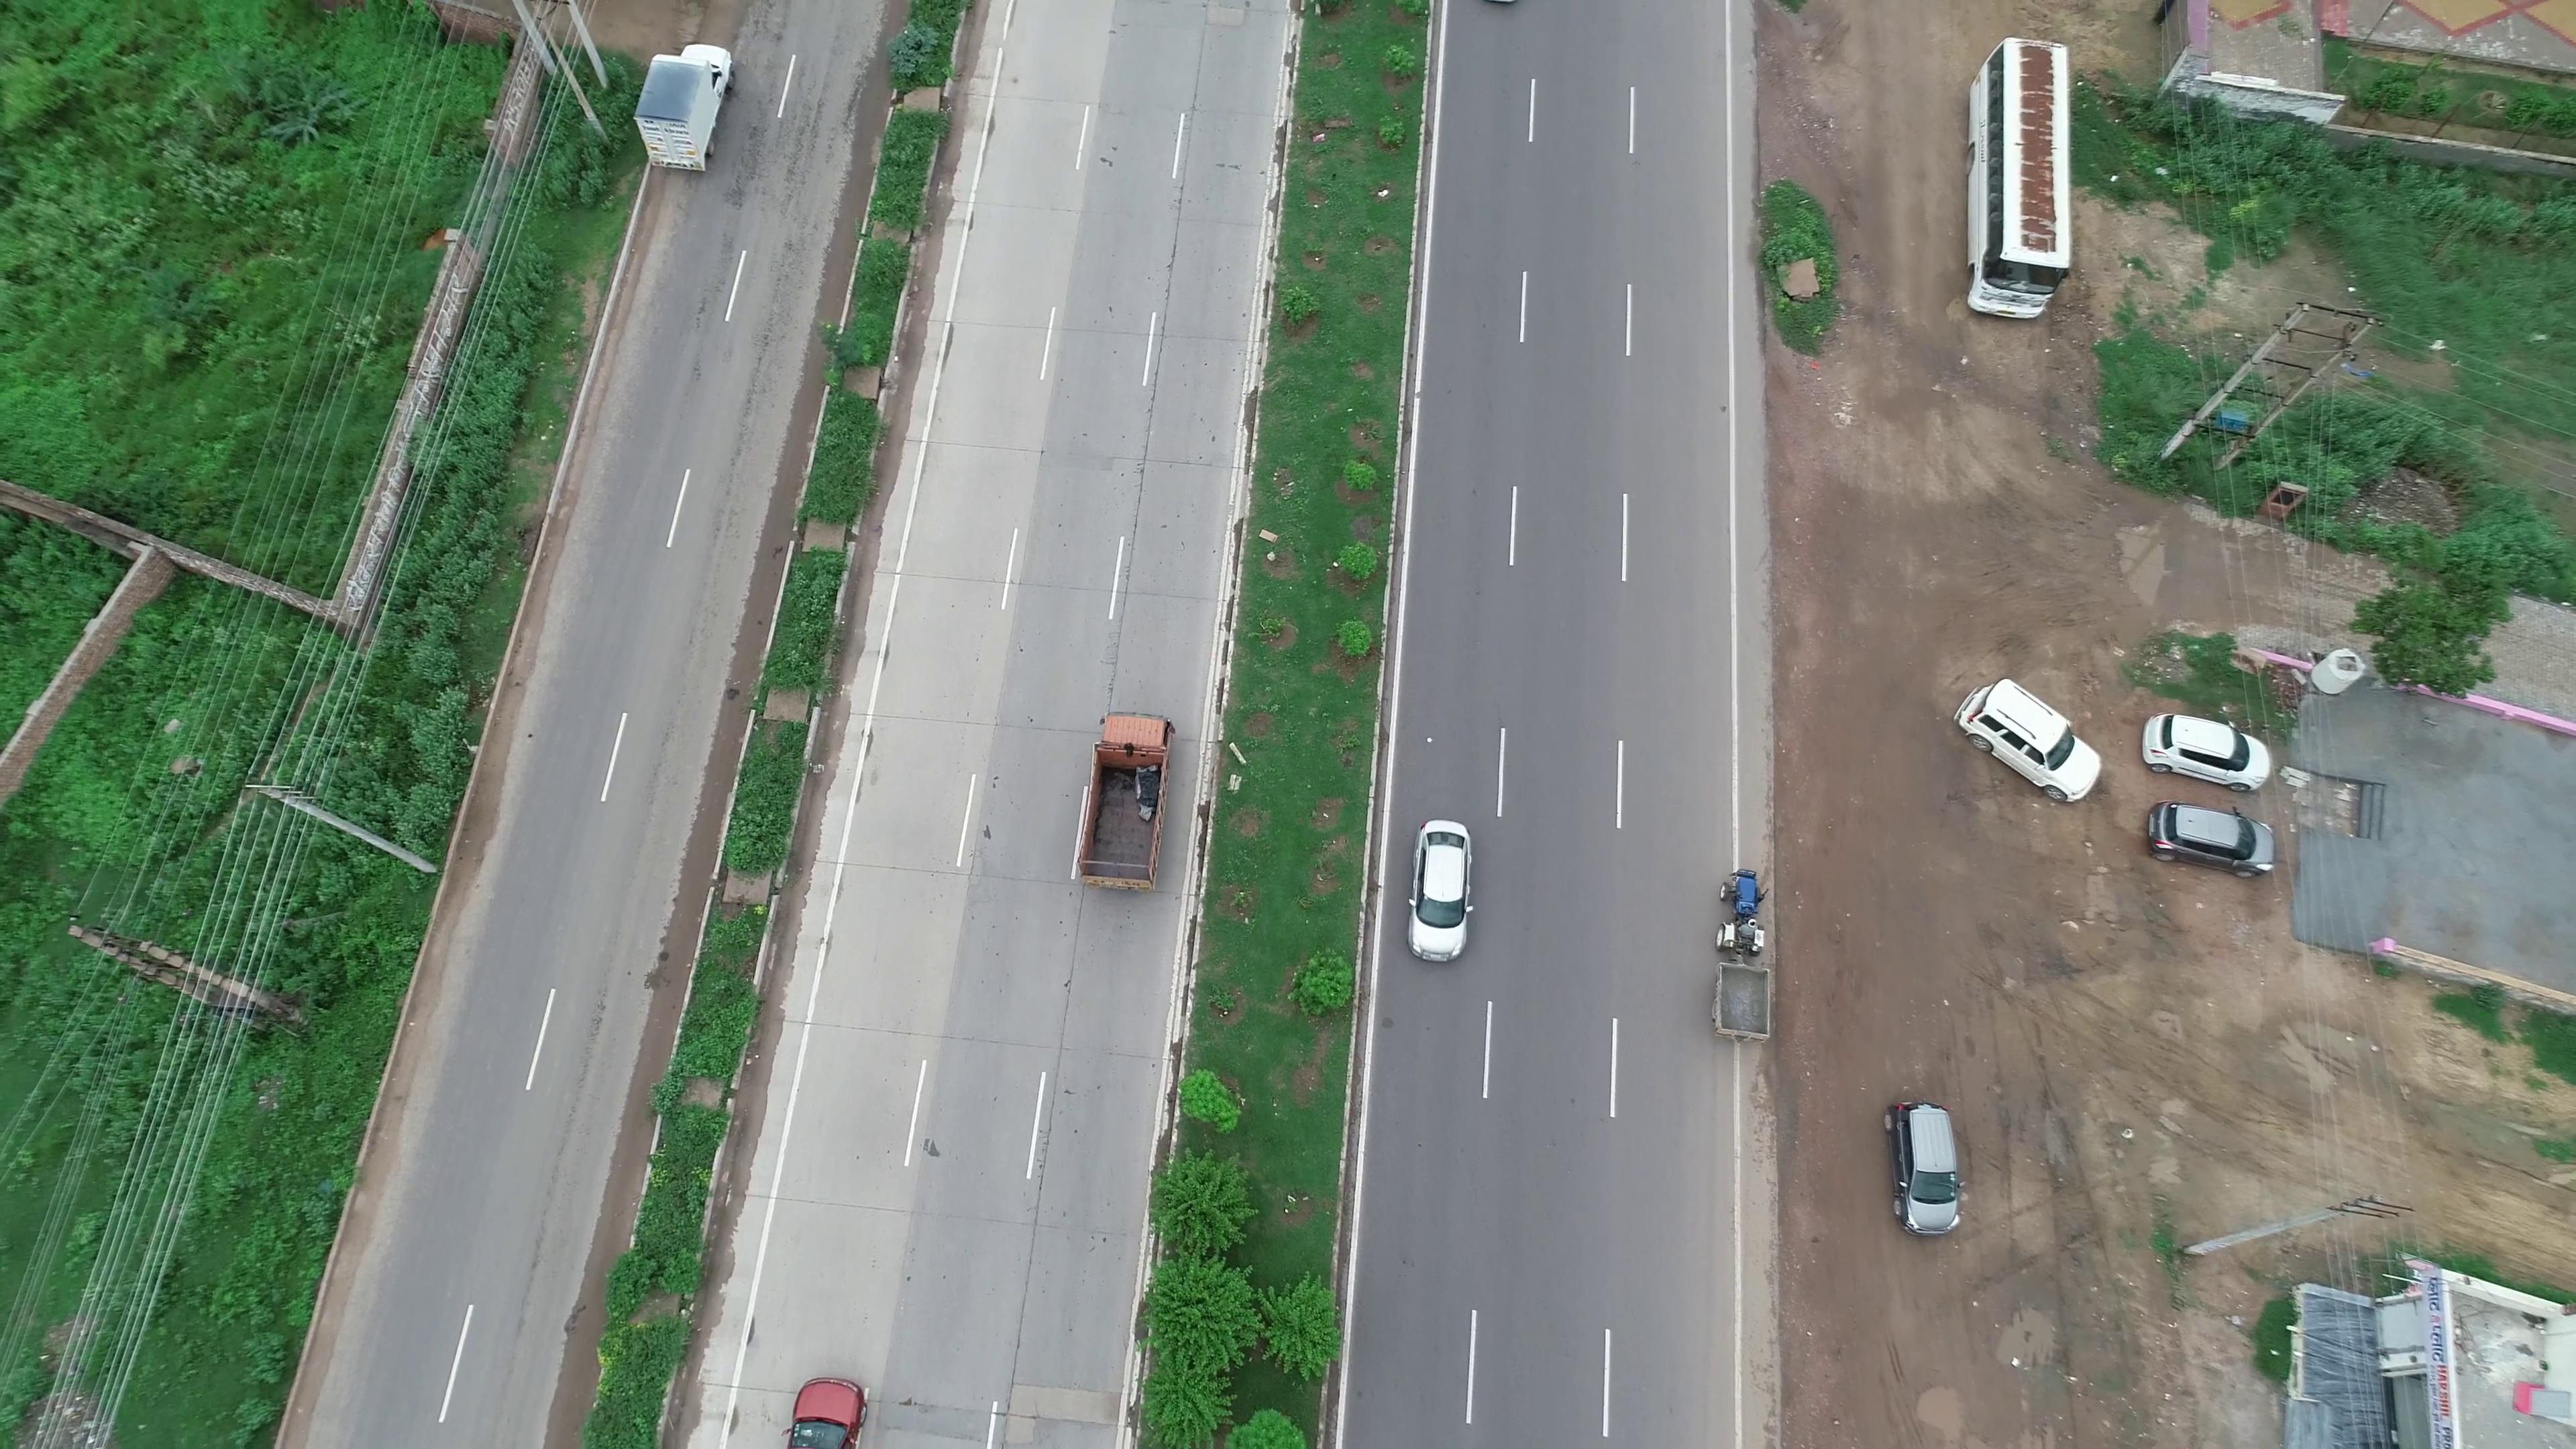Muddy_road: (1794, 525, 2043, 1031), (1767, 5, 1967, 495)
